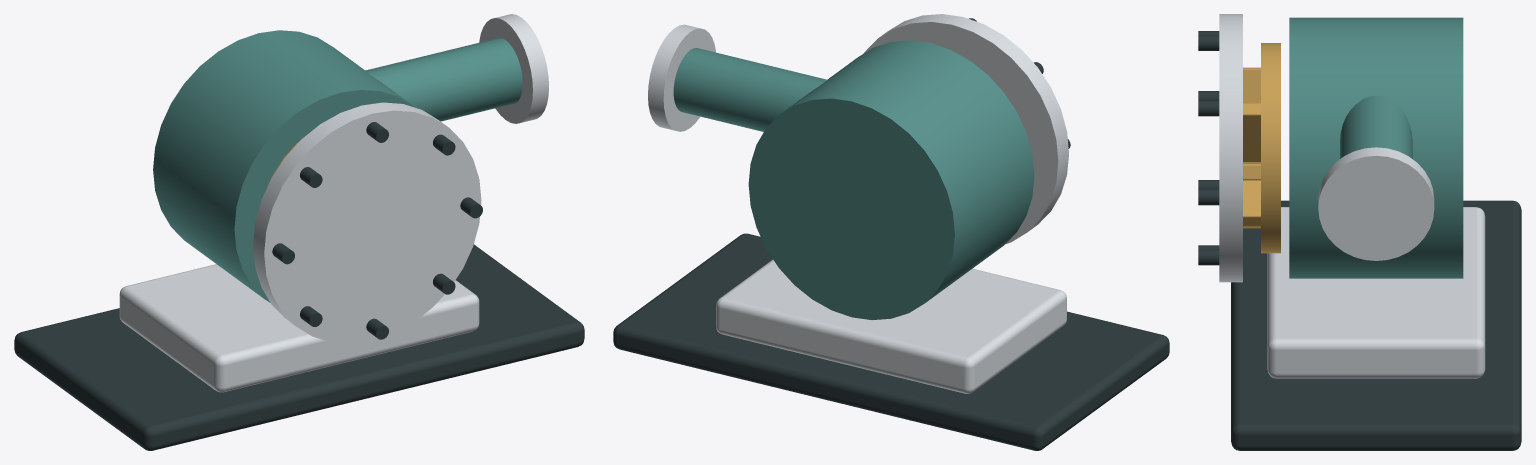
Rendered from pump.glb.
3 views of the same model, side by side, from view 1: azimuth 30°, elevation 25°; view 2: azimuth 150°, elevation 25°; view 3: azimuth 270°, elevation 25° (orthographic). The views are drawn at different scales.
Parts seen in each view (by area): view 1: pump; view 2: pump; view 3: pump.
Part boxes in pixels (box(x1,y1,x2,y2)): pump: box(14, 14, 584, 450); pump: box(613, 14, 1169, 450); pump: box(1198, 14, 1521, 450).
Size of the model in its own units: 1.51 by 0.95 by 0.89.
